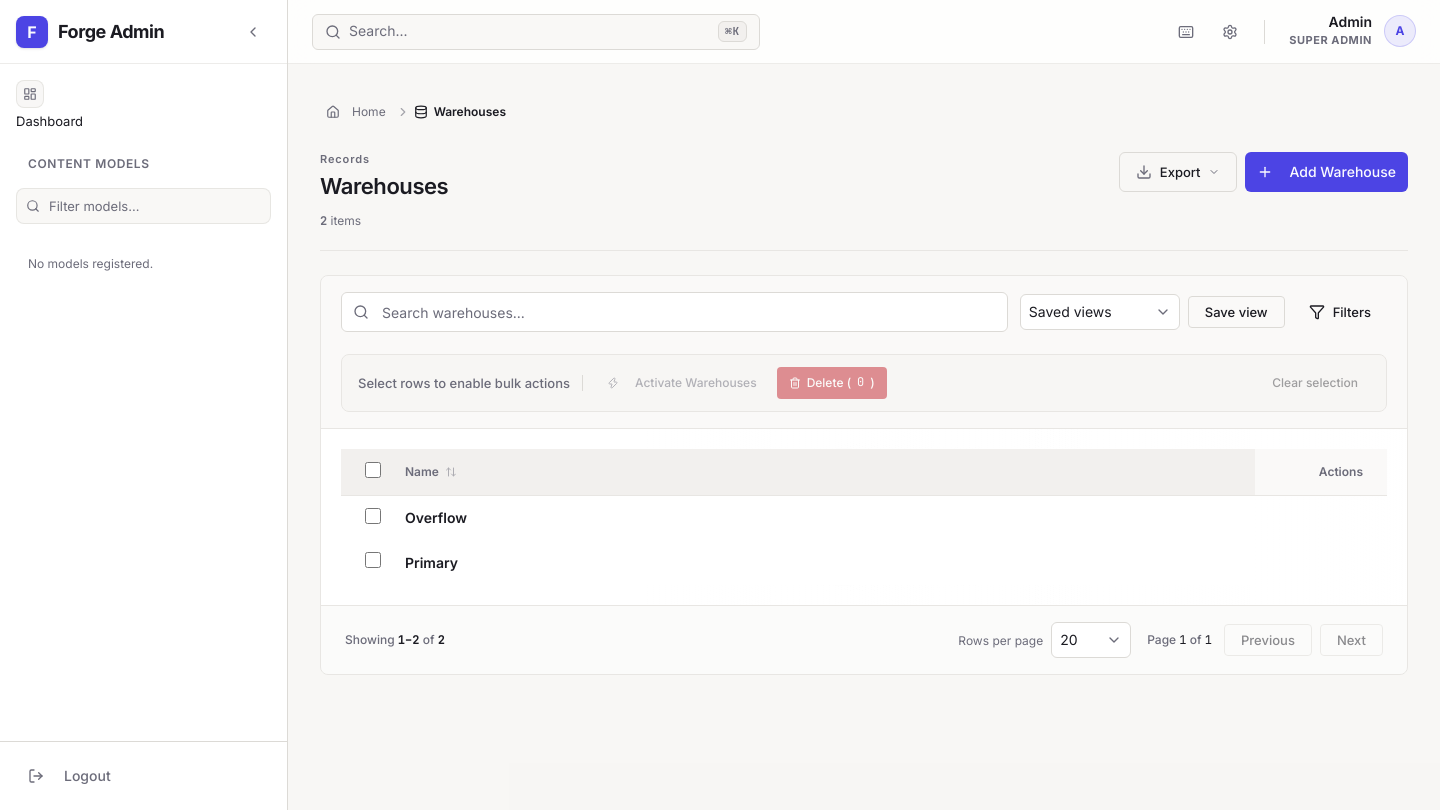
Test: ModelListPage bulk action feedback › does not report success when every record is rejected
Click the checkbox with test id "select-7".
click(373, 560)  # box top-left (365, 552), bottom-right (381, 568)
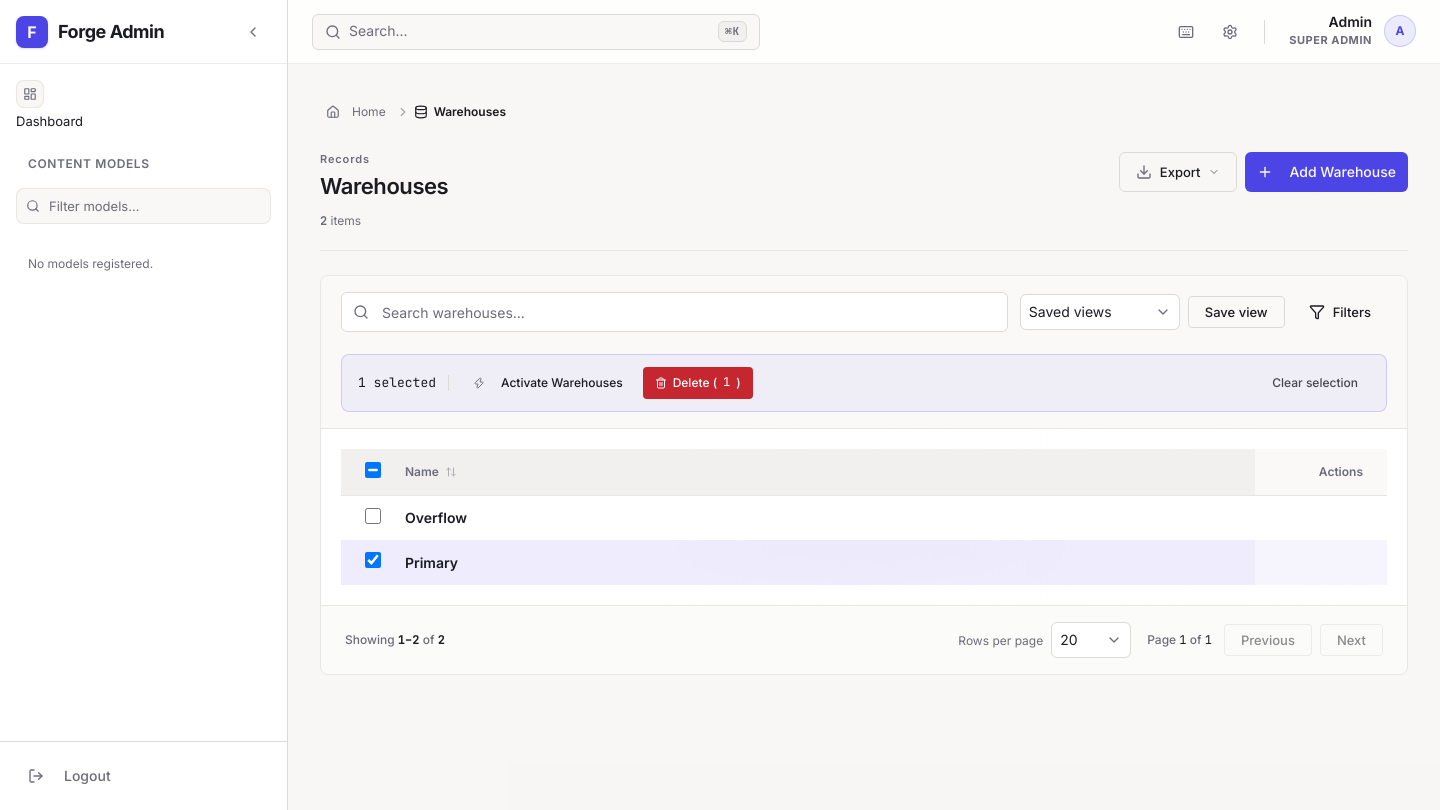
Click the button with test id "bulk-action-activate".
click(548, 383)  # box top-left (461, 367), bottom-right (635, 399)
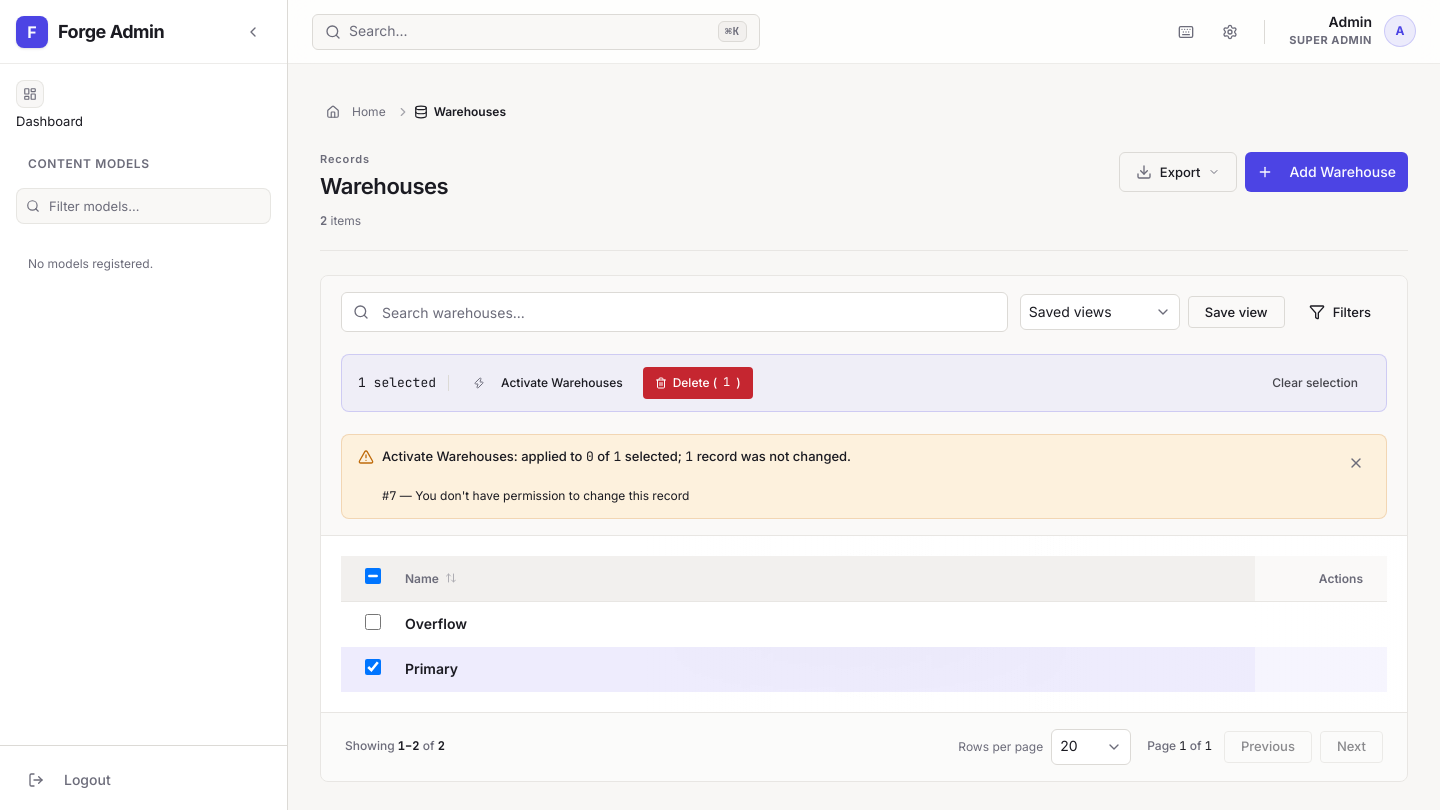
expect the list item with test id "bulk-result-item-7" is shown: met, box top-left (382, 488), bottom-right (689, 504)
